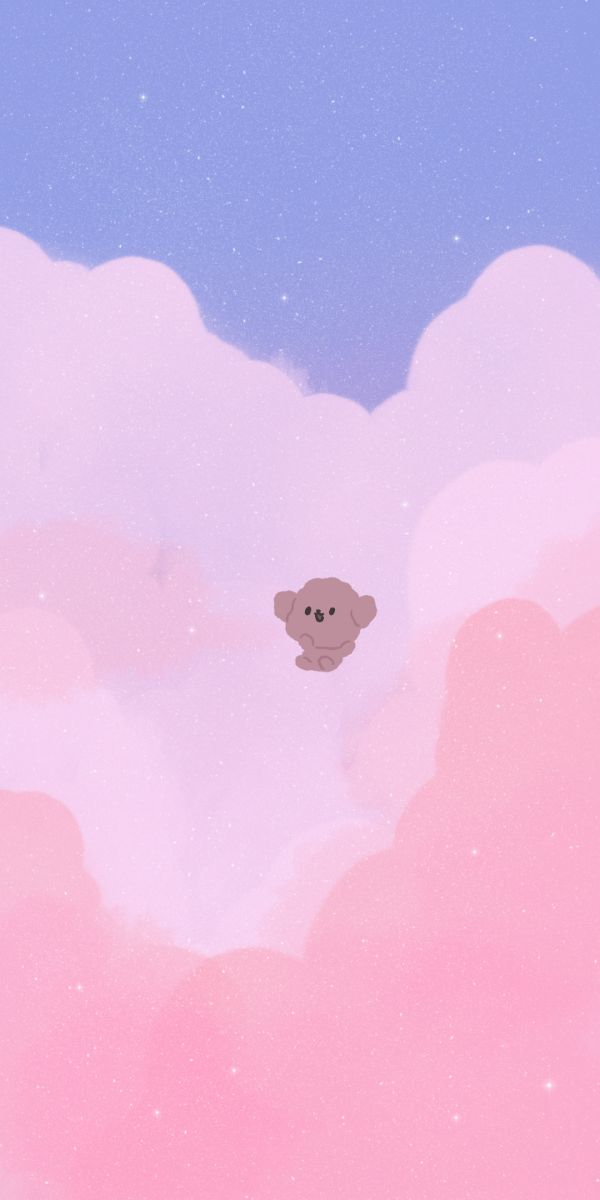dog: (207, 147, 504, 261)
